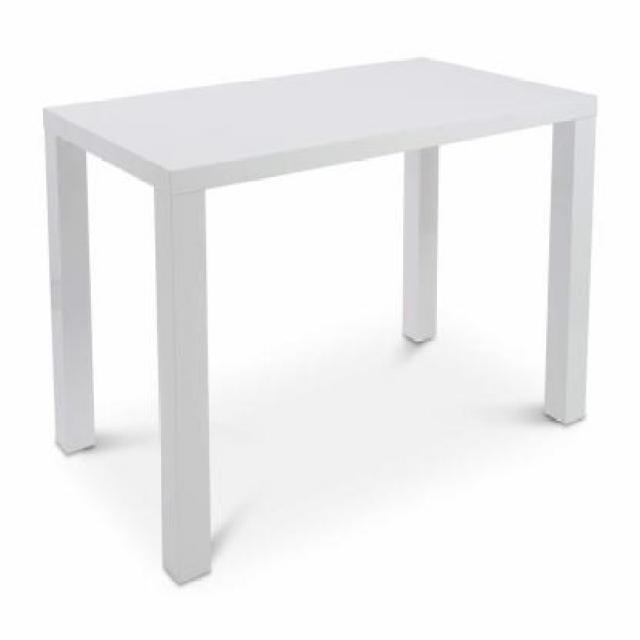table: (39, 52, 604, 580)
